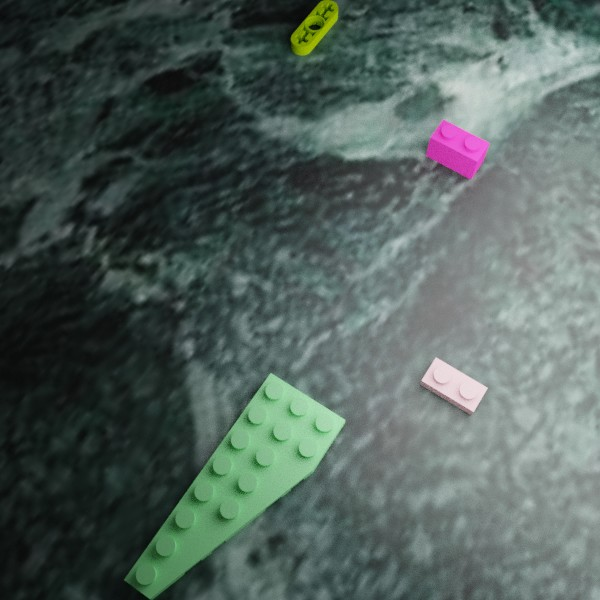lego: (123, 373, 345, 599), (419, 357, 487, 415), (425, 119, 489, 179), (290, 0, 338, 55)
